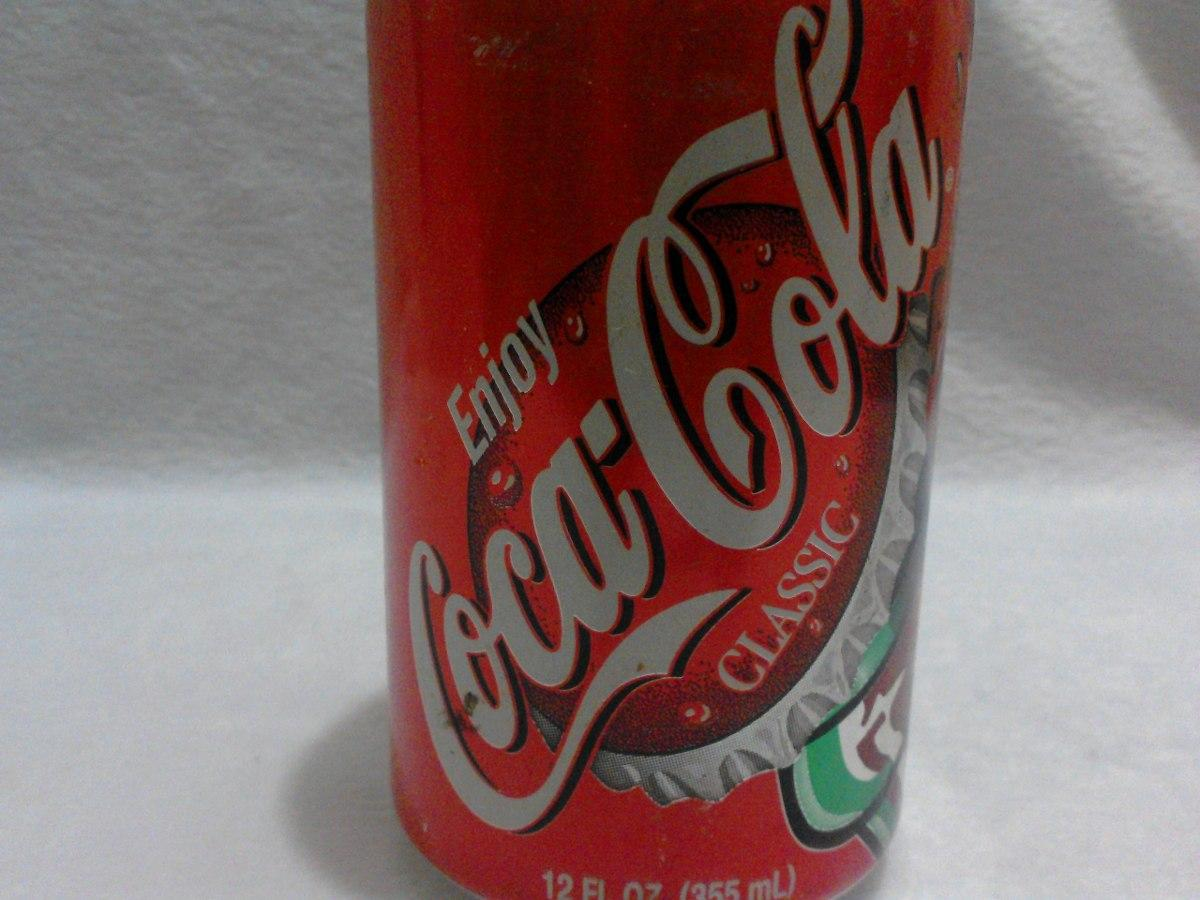metal: (367, 0, 973, 900)
